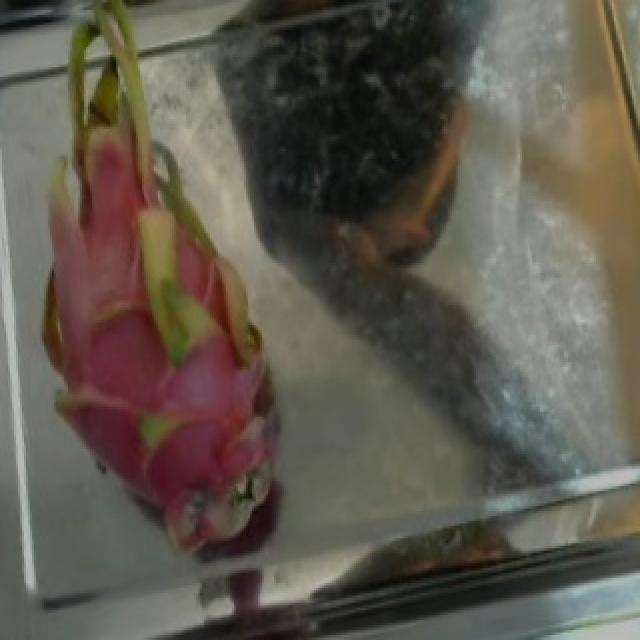fruit: (0, 8, 262, 452)
